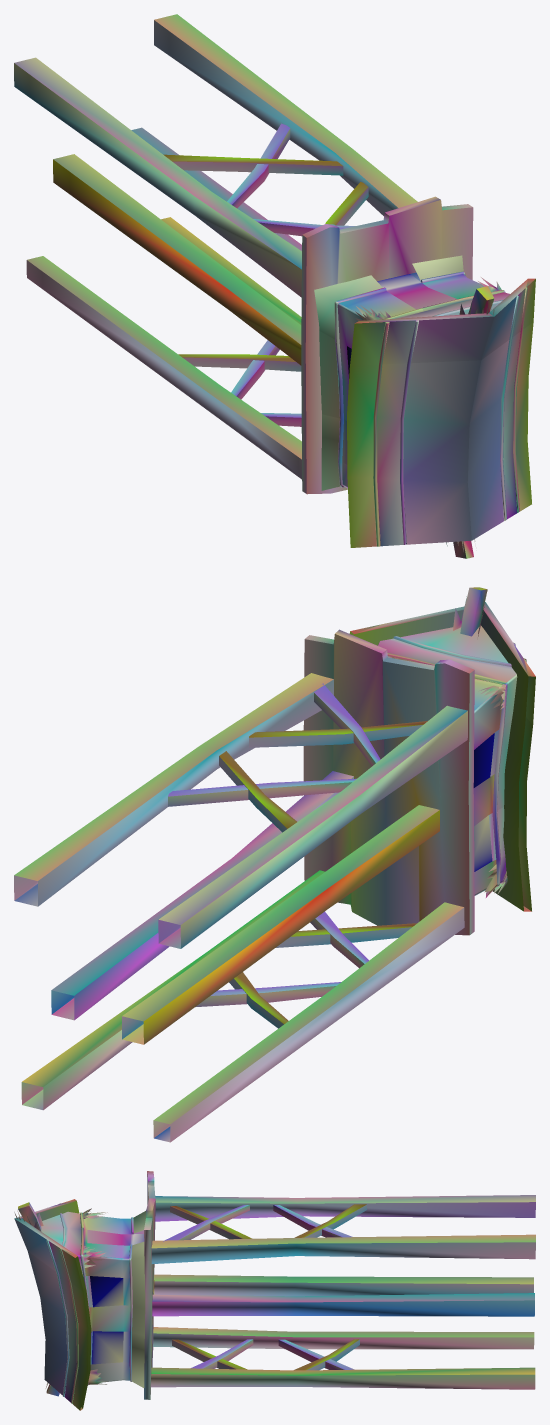
File: Hut_A.glb
3 views of the same model, one above another, from view 1: azimuth 30°, elevation 25°; view 2: azimuth 150°, elevation 25°; view 3: azimuth 270°, elevation 25° (orthographic). The views are drawn at different scales.
Parts seen in each view (by area): view 1: MeshNode_0; view 2: MeshNode_0; view 3: MeshNode_0.
Boxes of the visible parts, <box> form: MeshNode_0: <box>14,14,535,558</box>; MeshNode_0: <box>14,587,535,1142</box>; MeshNode_0: <box>14,1171,535,1410</box>.
Bounding box in the file's own units: 7.82 × 11.89 × 28.29.
